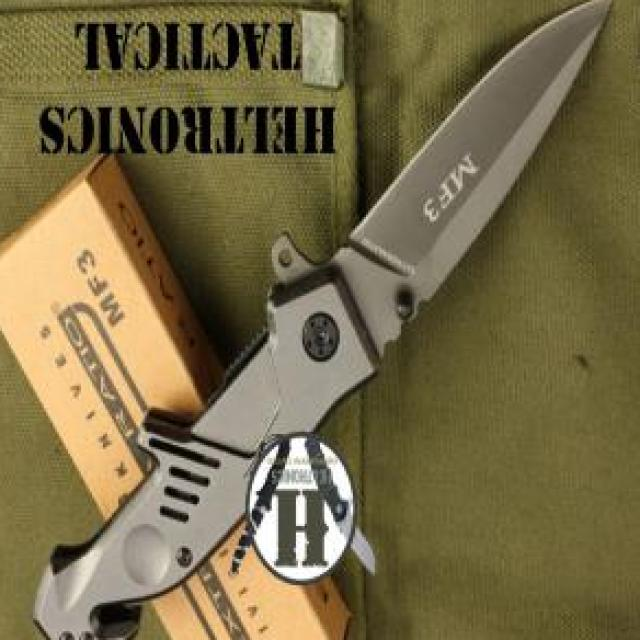knife: (344, 0, 625, 353)
